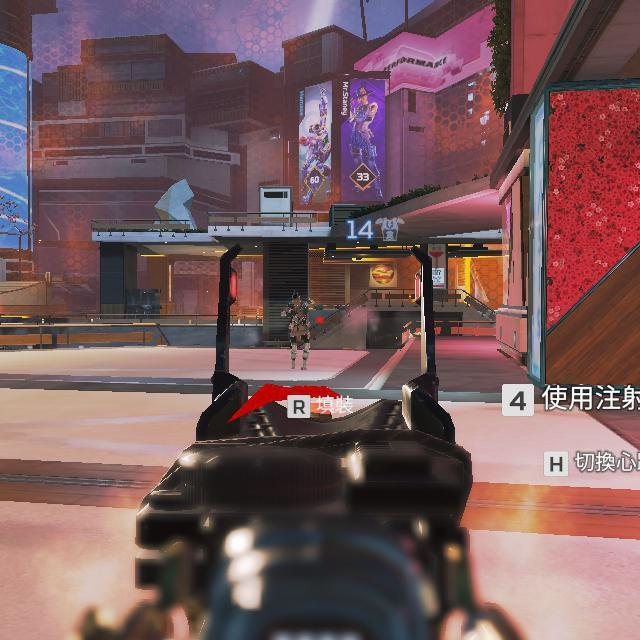avatar: (278, 292, 317, 371)
